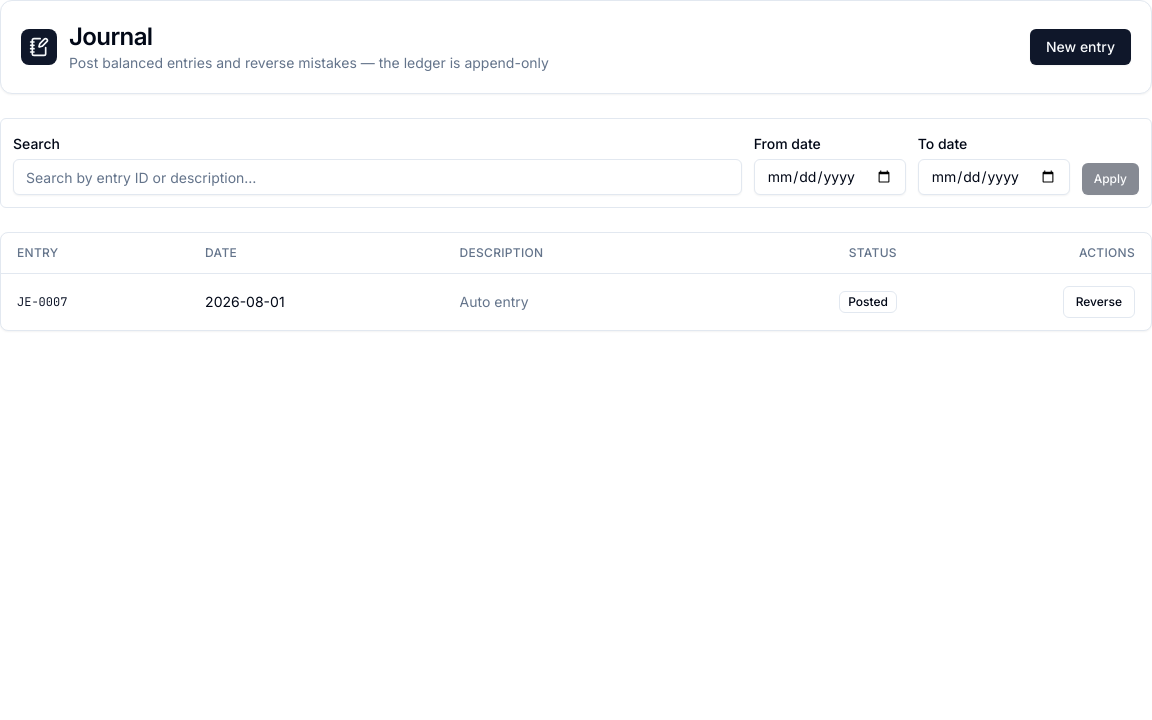
Test: JournalView — modal system actors + reversal trail (ACC-2) › labels null actors as System (Auto-generated) for auto-created entries
Step 1. Click the button with aria-label "View entry details" → (42, 302), box x1=17 y1=294 x2=67 y2=310
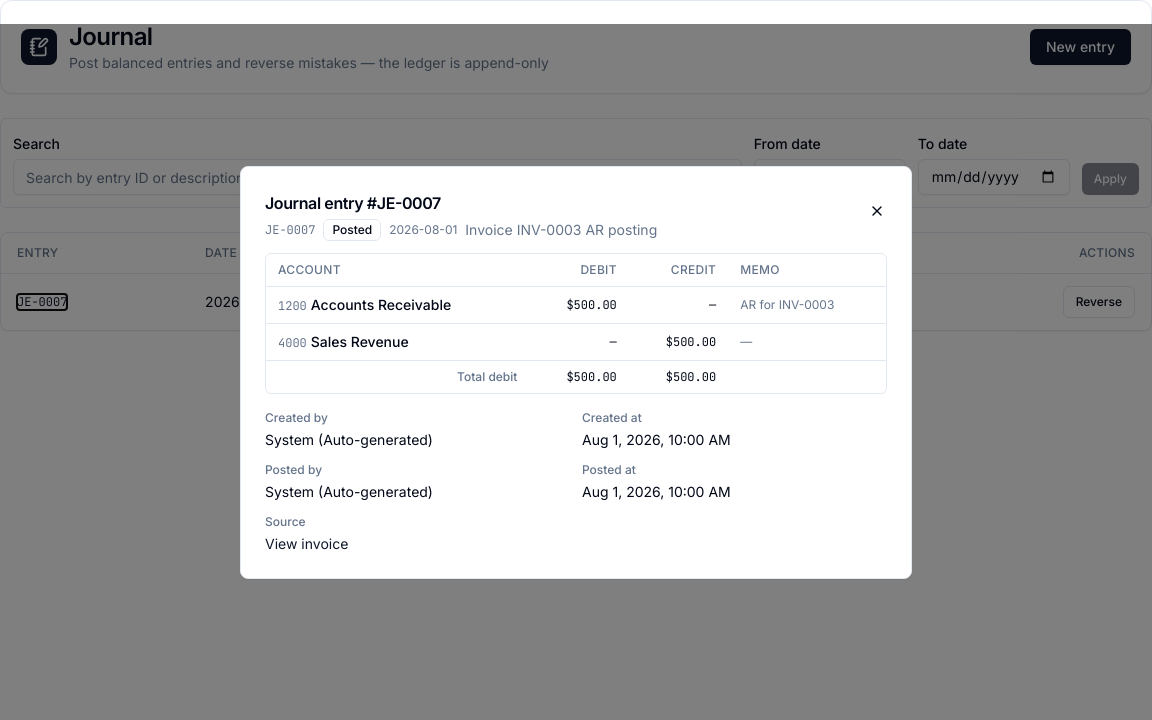
Check: the heading "Journal entry #JE-0007" is shown, box x1=265 y1=192 x2=441 y2=212
Check: the text "System (Auto-generated)" is shown 2 times, box x1=265 y1=430 x2=433 y2=448; x1=265 y1=482 x2=433 y2=500
